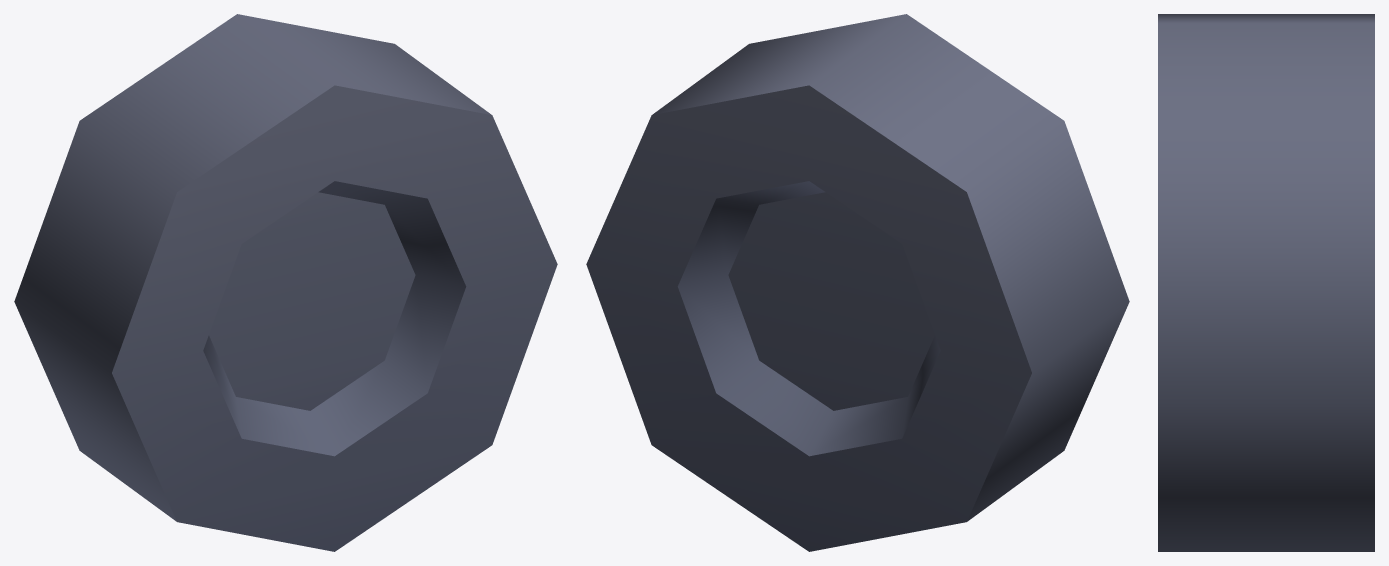
Rendered from item-coin-silver.glb.
The picture shows the model from 3 angles, left to right: view 1: azimuth 30°, elevation 25°; view 2: azimuth 150°, elevation 25°; view 3: azimuth 270°, elevation 25°; orthographic projection. The views are drawn at different scales.
Parts seen in each view (by area): view 1: item-coin-silver; view 2: item-coin-silver; view 3: item-coin-silver.
Part boxes in pixels (<box>): item-coin-silver: <box>14,14,557,551</box>; item-coin-silver: <box>586,14,1129,551</box>; item-coin-silver: <box>1158,14,1374,551</box>.
Bounding box in the file's own units: 0.264 × 0.264 × 0.1.
